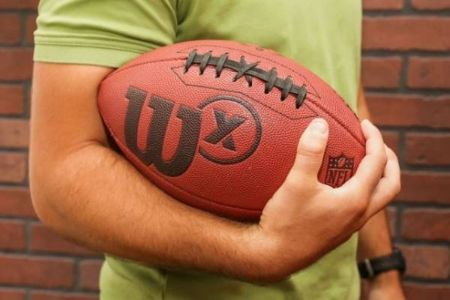futbol americano: (97, 39, 367, 222)
